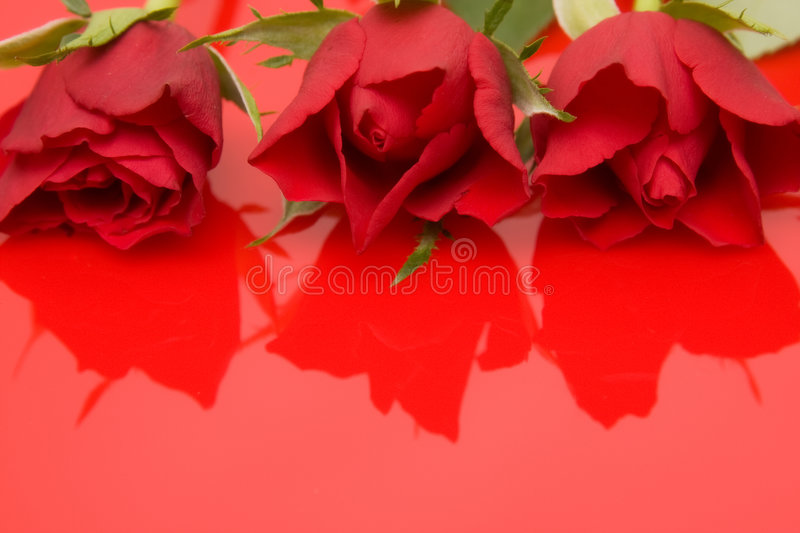RedRose: (266, 4, 539, 258), (528, 2, 798, 253), (0, 4, 250, 245)
